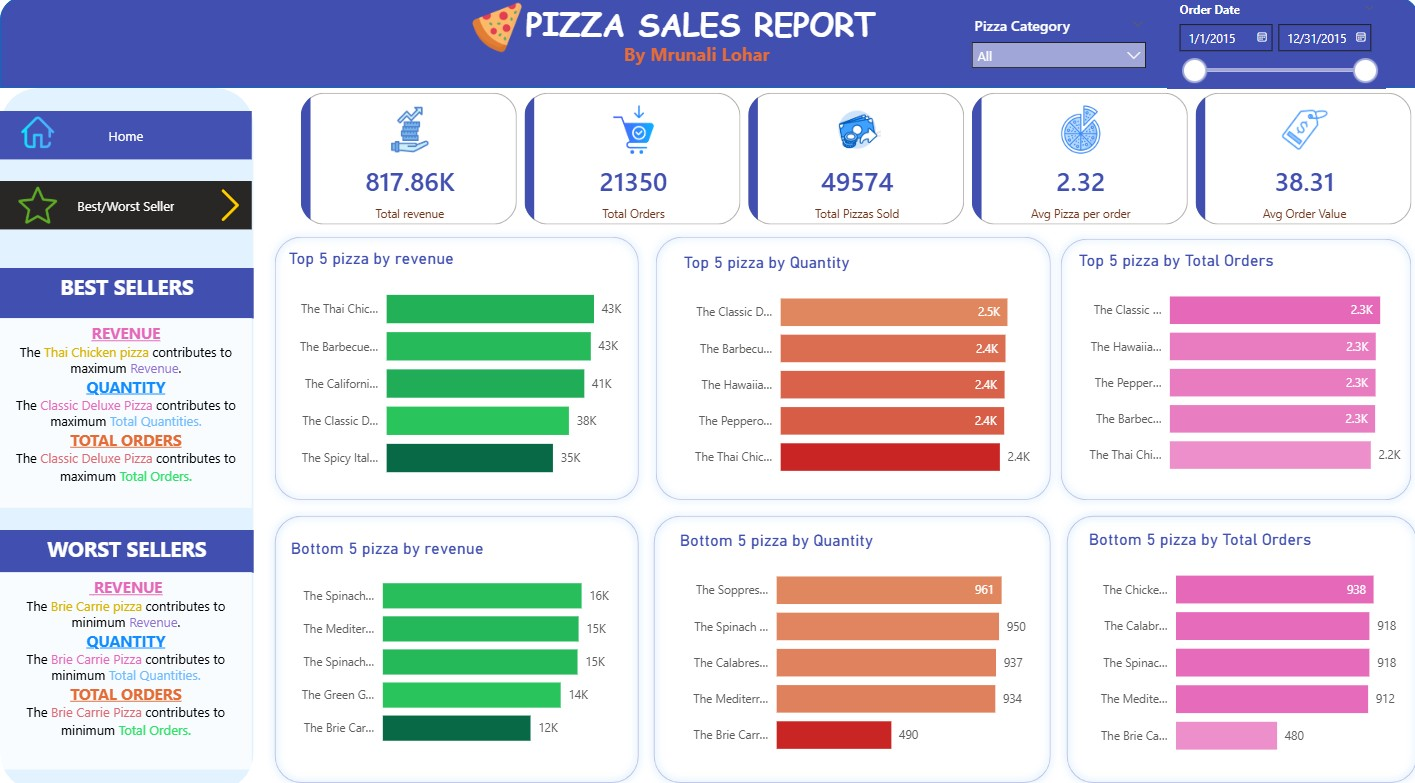

What the dashboard file says about the page in this screenshot:
{"tool":"powerbi","page":{"name":"Best/Worst Seller","canvas":[1500,820],"ordinal":1},"visuals":[{"type":"shape","box":[12,0,1466,94],"z":0},{"type":"textbox","box":[550.7,0,385.9,61.6],"z":1000},{"type":"textbox","box":[652.2,41.7,215.6,52.5],"z":2000},{"type":"image","box":[481.9,0,87,63.4],"z":3000},{"type":"shape","box":[288,240,392,288],"z":4000},{"type":"shape","box":[1100,242,378,286],"z":5000},{"type":"shape","box":[288,528,392,292],"z":6000},{"type":"shape","box":[680,528,426,292],"z":7000},{"type":"shape","box":[1106,528,378,292],"z":8000},{"type":"cardVisual","fields":{"Data":["pizza_sales.Total revenue","pizza_sales.Total Orders","pizza_sales.Total Pizzas Sold","pizza_sales.Avg Pizza per order","pizza_sales.Avg Order Value"]},"box":[318,94,1160,146],"z":9000},{"type":"shape","box":[12,94,262,726],"z":10000},{"type":"textbox","box":[12,280,262,52],"z":11000},{"type":"textbox","box":[12,550,262,44],"z":12000},{"type":"textbox","box":[12,332,260,196],"z":13000},{"type":"textbox","box":[12,594,260,204],"z":14000},{"type":"slicer","fields":{"Values":["pizza_sales.pizza_category"]},"box":[1006,14,200,68],"z":15000},{"type":"slicer","fields":{"Values":["pizza_sales.order_date"]},"box":[1218,0,226,94],"z":16000},{"type":"pageNavigator","box":[12,118,260,50],"z":17000},{"type":"pageNavigator","box":[12,190,260,50],"z":18000},{"type":"image","box":[12,118,78,44],"z":19000},{"type":"image","box":[228,190,44,50],"z":20000},{"type":"image","box":[12,190,78,50],"z":21000},{"type":"shape","box":[682,240,424,288],"z":22000},{"type":"barChart","title":"Top 5 pizza by revenue","fields":{"Category":["pizza_sales.pizza_name"],"Y":["pizza_sales.Total revenue"]},"box":[306,260,374,252],"z":23000},{"type":"barChart","title":"Bottom 5 pizza by revenue","fields":{"Category":["pizza_sales.pizza_name"],"Y":["pizza_sales.Total revenue"]},"box":[308,560,350,228],"z":24000},{"type":"barChart","title":"Bottom 5 pizza by Quantity","fields":{"Category":["pizza_sales.pizza_name"],"Y":["Sum(pizza_sales.quantity)"]},"box":[710,552,368,246],"z":25000},{"type":"barChart","title":"Top 5 pizza by Quantity","fields":{"Category":["pizza_sales.pizza_name"],"Y":["Sum(pizza_sales.quantity)"]},"box":[714,264,368,246],"z":26000},{"type":"barChart","title":"Bottom 5 pizza by Total Orders","fields":{"Category":["pizza_sales.pizza_name"],"Y":["pizza_sales.Total Orders"]},"box":[1132,550,330,248],"z":27000},{"type":"barChart","title":"Top 5 pizza by Total Orders","fields":{"Category":["pizza_sales.pizza_name"],"Y":["pizza_sales.Total Orders"]},"box":[1122,262,346,246],"z":28000}]}

Visuals, with their boxes in screenshot pixels (x1, y1, x2, y2), scaled from the page's 1500x820 canvas onto the 1415x783 screenshot:
shape: (left=11, top=0, right=1394, bottom=90)
textbox: (left=519, top=0, right=884, bottom=59)
textbox: (left=615, top=40, right=819, bottom=90)
image: (left=455, top=0, right=537, bottom=61)
shape: (left=272, top=229, right=641, bottom=504)
shape: (left=1038, top=231, right=1394, bottom=504)
shape: (left=272, top=504, right=641, bottom=782)
shape: (left=641, top=504, right=1043, bottom=782)
shape: (left=1043, top=504, right=1400, bottom=782)
cardVisual - pizza_sales.Total revenue x pizza_sales.Total Orders: (left=300, top=90, right=1394, bottom=229)
shape: (left=11, top=90, right=258, bottom=782)
textbox: (left=11, top=267, right=258, bottom=317)
textbox: (left=11, top=525, right=258, bottom=567)
textbox: (left=11, top=317, right=257, bottom=504)
textbox: (left=11, top=567, right=257, bottom=762)
slicer - pizza_sales.pizza_category: (left=949, top=13, right=1138, bottom=78)
slicer - pizza_sales.order_date: (left=1149, top=0, right=1362, bottom=90)
pageNavigator: (left=11, top=113, right=257, bottom=160)
pageNavigator: (left=11, top=181, right=257, bottom=229)
image: (left=11, top=113, right=85, bottom=155)
image: (left=215, top=181, right=257, bottom=229)
image: (left=11, top=181, right=85, bottom=229)
shape: (left=643, top=229, right=1043, bottom=504)
"Top 5 pizza by revenue" barChart: (left=289, top=248, right=641, bottom=489)
"Bottom 5 pizza by revenue" barChart: (left=291, top=535, right=621, bottom=752)
"Bottom 5 pizza by Quantity" barChart: (left=670, top=527, right=1017, bottom=762)
"Top 5 pizza by Quantity" barChart: (left=674, top=252, right=1021, bottom=487)
"Bottom 5 pizza by Total Orders" barChart: (left=1068, top=525, right=1379, bottom=762)
"Top 5 pizza by Total Orders" barChart: (left=1058, top=250, right=1385, bottom=485)
